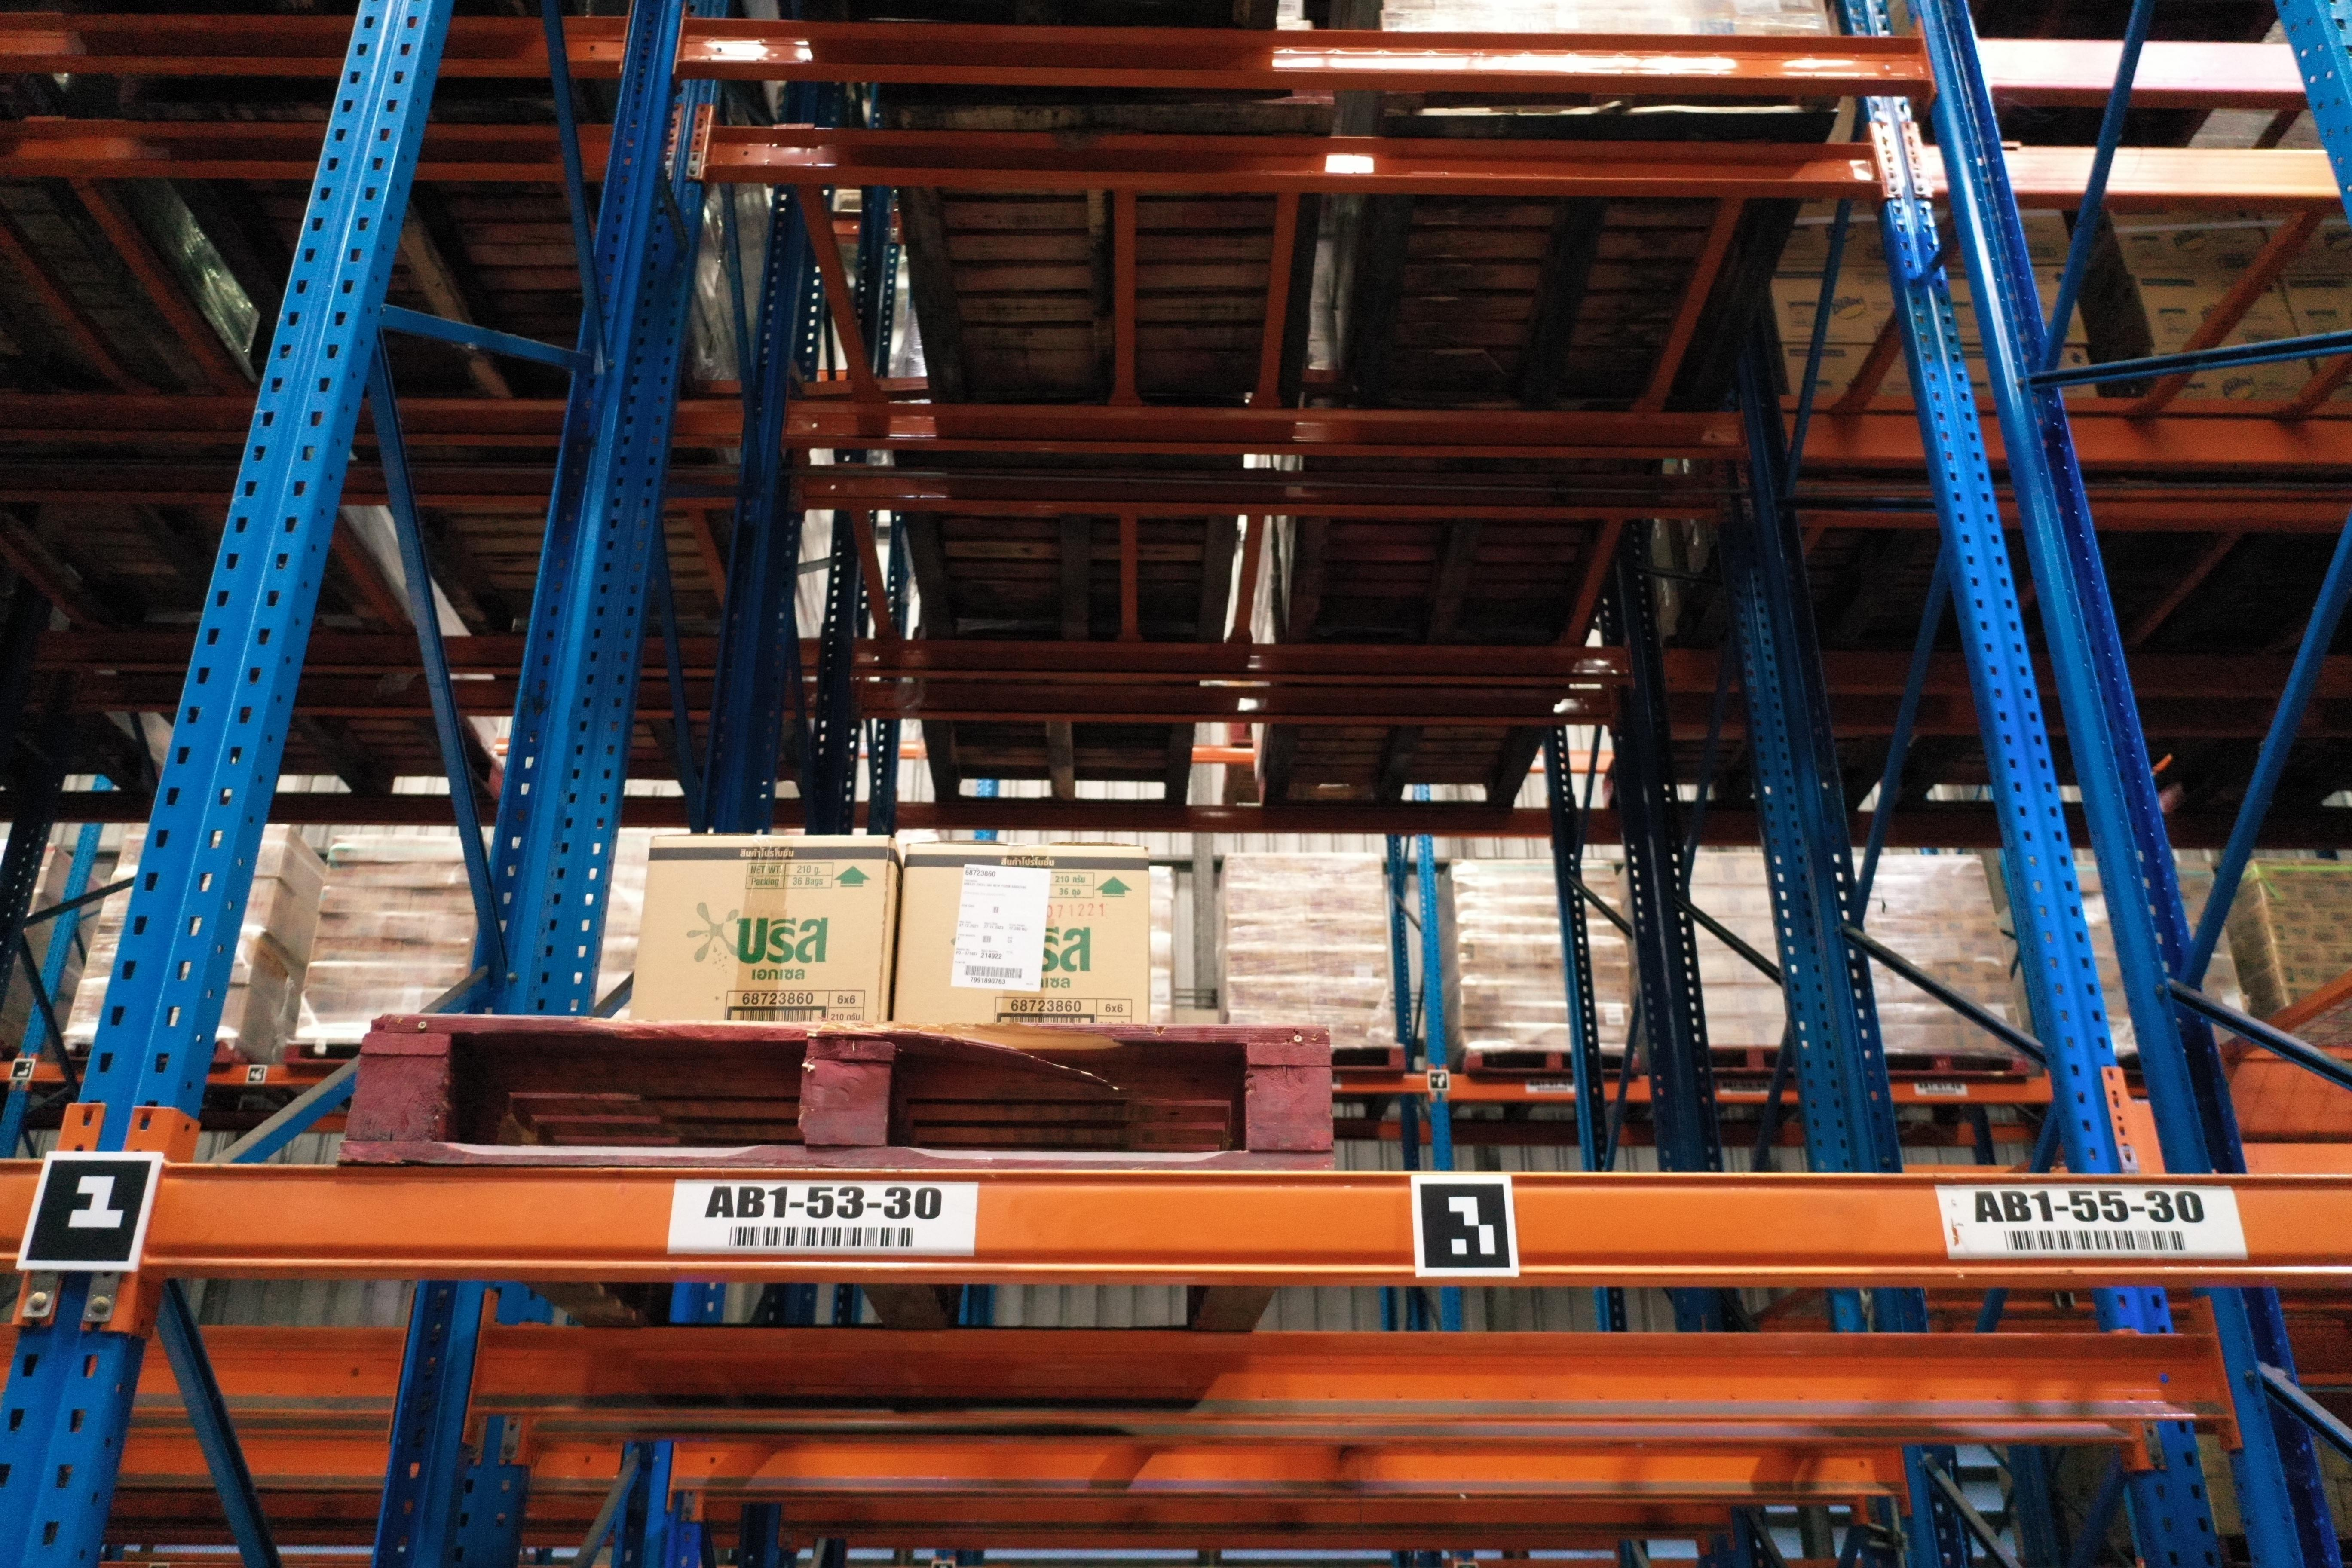-: (628, 833, 892, 1029), (892, 840, 1150, 1025)
